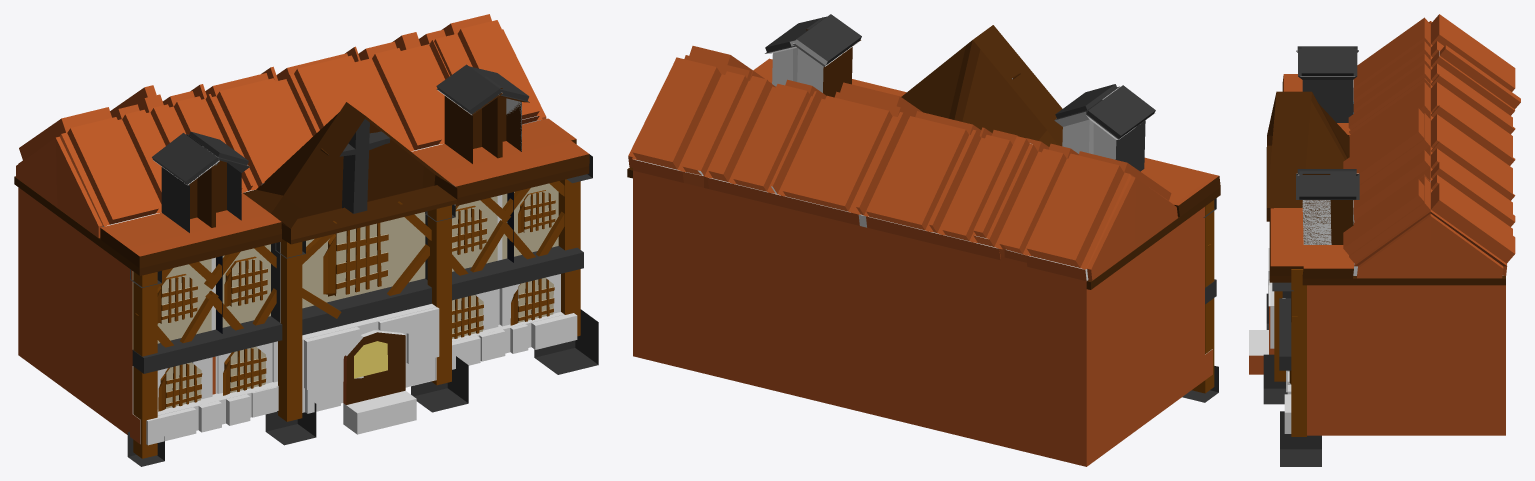
File: new house.fbx
The picture shows the model from 3 angles, left to right: view 1: azimuth 30°, elevation 25°; view 2: azimuth 150°, elevation 25°; view 3: azimuth 270°, elevation 25°; orthographic projection. The views are drawn at different scales.
Visible parts, largest first — view 1: Cube; view 2: Cube; view 3: Cube.
Part boxes in pixels (x1,y1,x2,y2): Cube: [14, 14, 598, 466]; Cube: [627, 14, 1220, 466]; Cube: [1249, 14, 1520, 466].
Bounding box in the file's own units: 1716 × 1099 × 990.
